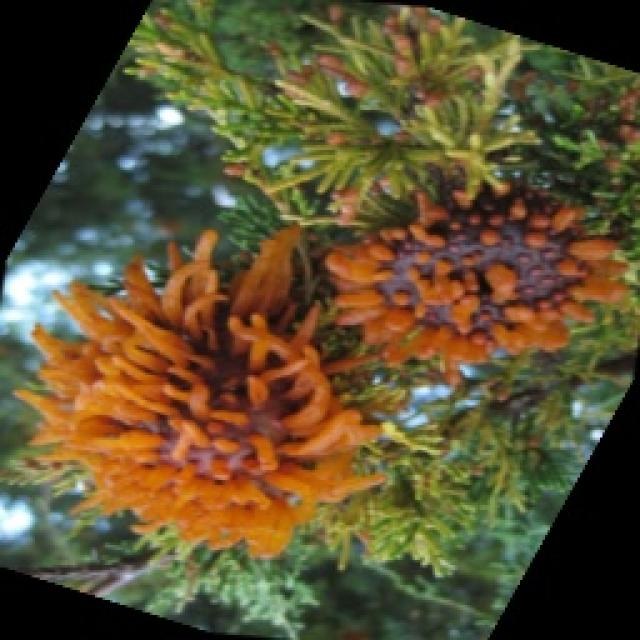Gymnosporangium_Rusts: (7, 0, 637, 572)
